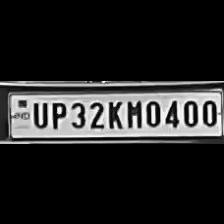0: (198, 96, 218, 124), (142, 97, 160, 127), (180, 96, 198, 126)
2: (86, 97, 104, 128)
3: (67, 98, 85, 128)
4: (161, 96, 179, 127)
K: (104, 97, 124, 128)
M: (124, 97, 142, 129)
P: (47, 97, 66, 128)
U: (30, 98, 48, 128)
